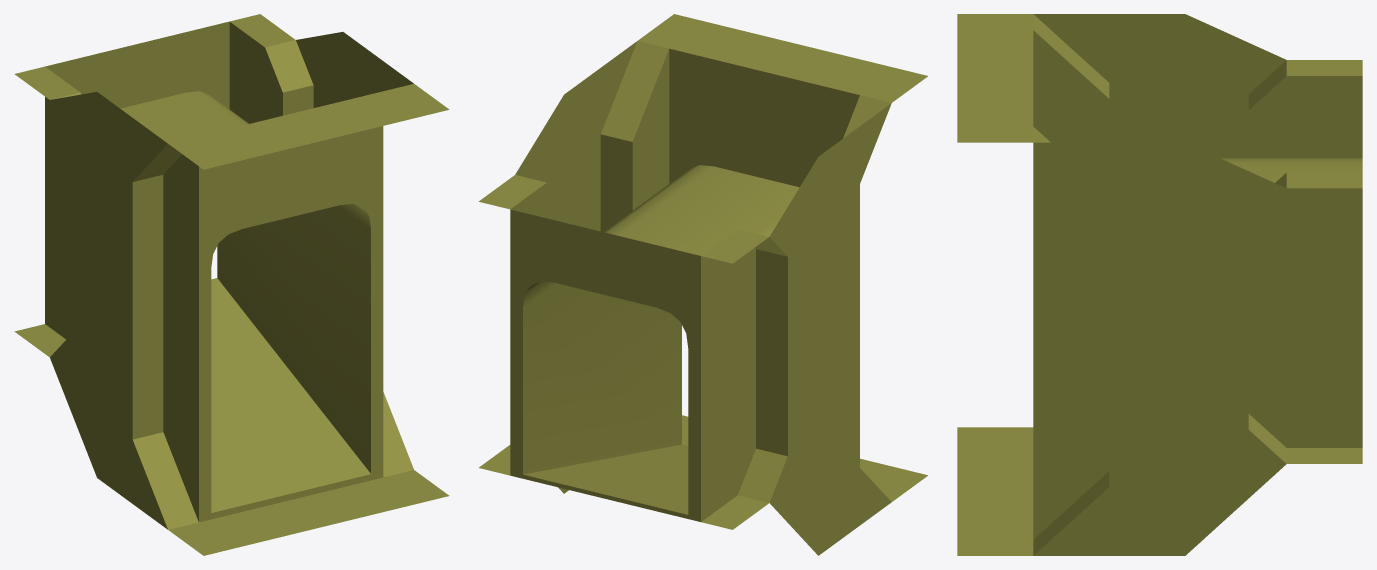
The model's file is TranziteWall_A_Door.FBX.
3 views of the same model, side by side, from view 1: azimuth 30°, elevation 25°; view 2: azimuth 150°, elevation 25°; view 3: azimuth 270°, elevation 25° (orthographic). The views are drawn at different scales.
Visible parts, largest first — view 1: TranziteWall_A_Door; view 2: TranziteWall_A_Door; view 3: TranziteWall_A_Door.
Boxes of the visible parts, x1=… form: TranziteWall_A_Door: x1=14, y1=14, x2=449, y2=555; TranziteWall_A_Door: x1=479, y1=14, x2=927, y2=555; TranziteWall_A_Door: x1=957, y1=14, x2=1362, y2=555.
Bounding box in the file's own units: 300 × 450 × 400.
